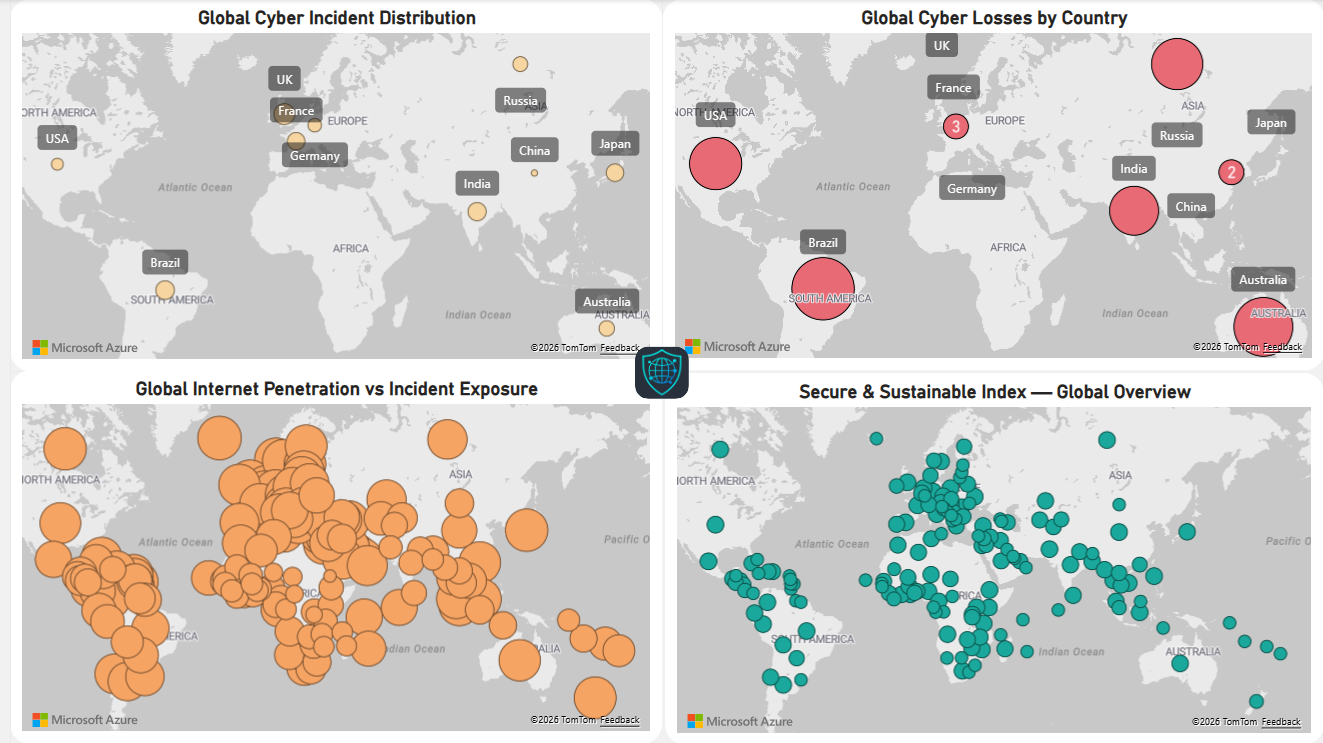

Layout of this report page (visuals, bound fields, positions):
{"tool":"powerbi","page":{"name":"Global Maps","canvas":[1280,720],"ordinal":3},"visuals":[{"type":"group","id":"g1","title":"Maps","box":[9.6,0,1269.7,720.2],"z":0},{"type":"azureMap","title":"Global Cyber Incident Distribution","fields":{"Category":["Fact_GlobalThreats.Country"],"Size":["Measures – GlobalThreats.Total Global Incidents"]},"box":[9.6,0,629.8,359.5],"z":0,"group":"g1"},{"type":"shape","box":[612.8,335.8,52.1,50.6],"z":0,"group":"g2"},{"type":"azureMap","title":"Global Cyber Losses by Country","fields":{"Category":["Fact_GlobalThreats.Country"],"Size":["Measures – GlobalThreats.Total Global Loss(USD)"]},"box":[639.8,0,639.4,358.3],"z":1000,"group":"g1"},{"type":"image","title":"Logo","box":[612.8,338.7,52.1,44.8],"z":1000,"group":"g2"},{"type":"group","id":"g2","title":"mid butt","box":[612.8,335.8,52.1,50.6],"z":2000},{"type":"azureMap","title":"Global Internet Penetration vs Incident Exposure","fields":{"Category":["WorldSustainabilityDataset.Country"],"Size":["Measures – Sustainability.Avg Internet Users (%)"]},"box":[9.8,358.8,629.6,360.4],"z":2000,"group":"g1"},{"type":"azureMap","title":"Secure & Sustainable Index — Global Overview","fields":{"Category":["WorldSustainabilityDataset.Country"],"Size":["Measures – Combined.Secure & Sustainable Index"]},"box":[642.3,360.7,635.8,359.5],"z":3000,"group":"g1"}]}

Visuals, with their boxes in screenshot pixels (x1, y1, x2, y2), scaled from the page's 1280x720 canvas onto the 1323x743 screenshot:
"Maps" group: [left=10, top=0, right=1322, bottom=742]
"Global Cyber Incident Distribution" azureMap: [left=10, top=0, right=661, bottom=371]
shape: [left=633, top=347, right=687, bottom=399]
"Global Cyber Losses by Country" azureMap: [left=661, top=0, right=1322, bottom=370]
"Logo" image: [left=633, top=350, right=687, bottom=396]
"mid butt" group: [left=633, top=347, right=687, bottom=399]
"Global Internet Penetration vs Incident Exposure" azureMap: [left=10, top=370, right=661, bottom=742]
"Secure & Sustainable Index — Global Overview" azureMap: [left=664, top=372, right=1321, bottom=742]
